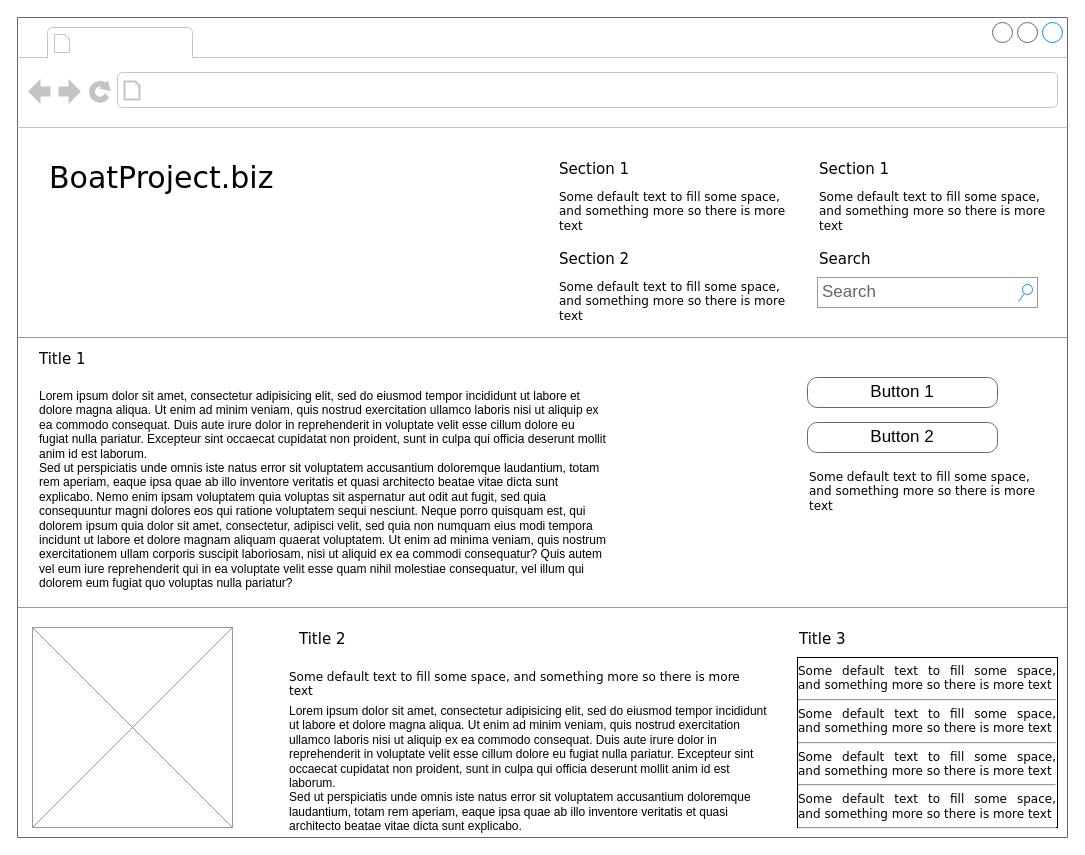
This 1085x855 diagram has some shape labels left out. Here are the shapes that lost their labels. From the top down, the centre of each, then its label:
(x=132, y=42): Page 1
(x=272, y=90): https://www.default.com
